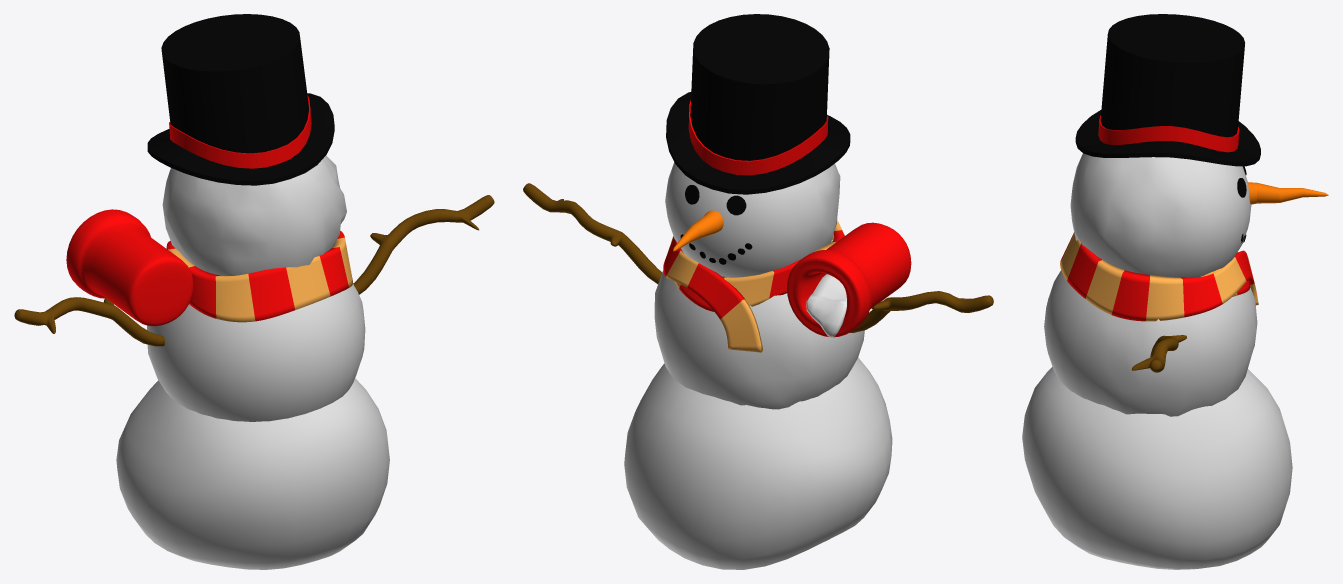
File: MunecoClasista.fbx
3 renders of one model, left to right at view 1: azimuth 30°, elevation 25°; view 2: azimuth 150°, elevation 25°; view 3: azimuth 270°, elevation 25°, orthographic.
Visible parts, largest first — view 1: Sphere, Circle, Sphere.001, Sphere.002, polySurface2.001, Cube, Brazos; view 2: Sphere, Circle, Sphere.001, Sphere.002, polySurface2.001, Cube, Brazos, polySurface1.001, Cylinder; view 3: Sphere, Circle, Sphere.001, Sphere.002, Cube, Cylinder, Brazos.
Boxes of the visible parts, x1,y1,x2,y2 form: Sphere: (116, 378, 389, 569); Circle: (147, 14, 334, 185); Sphere.001: (147, 283, 365, 421); Sphere.002: (162, 155, 346, 275); polySurface2.001: (66, 209, 193, 326); Cube: (166, 231, 352, 322); Brazos: (14, 195, 494, 346); Sphere: (624, 357, 892, 569); Circle: (666, 14, 850, 194); Sphere.001: (654, 239, 864, 409); Sphere.002: (665, 162, 840, 277); polySurface2.001: (787, 222, 911, 337); Cube: (663, 220, 844, 352); Brazos: (523, 183, 993, 332); polySurface1.001: (806, 274, 846, 337); Cylinder: (673, 210, 723, 251); Sphere: (1022, 367, 1292, 569); Circle: (1075, 14, 1260, 166); Sphere.001: (1044, 270, 1257, 416); Sphere.002: (1070, 153, 1251, 277); Cube: (1060, 232, 1258, 321); Cylinder: (1247, 182, 1328, 204); Brazos: (1131, 335, 1186, 372).
Bounding box in the file's own units: 362 × 367 × 204.
